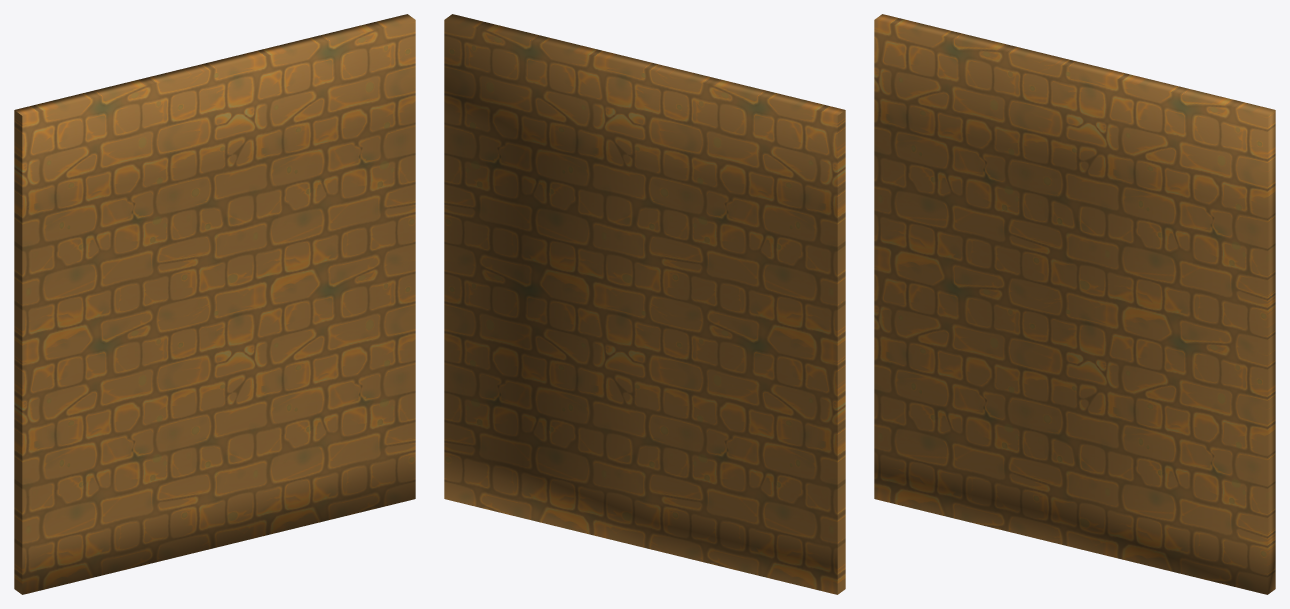
The model's file is sandDungeonDoor.glb.
3 renders of one model, left to right at view 1: azimuth 30°, elevation 25°; view 2: azimuth 150°, elevation 25°; view 3: azimuth 330°, elevation 25°, orthographic.
Parts seen in each view (by area): view 1: sandDungeonDoor; view 2: sandDungeonDoor; view 3: sandDungeonDoor.
Boxes of the visible parts, x1,y1,x2,y2 form: sandDungeonDoor: [14, 14, 415, 594]; sandDungeonDoor: [444, 14, 845, 594]; sandDungeonDoor: [874, 14, 1275, 594].
Size of what is drawn, in the model's own units: 14.01 by 16.3 by 0.5067.
1 material, 1 textured.
